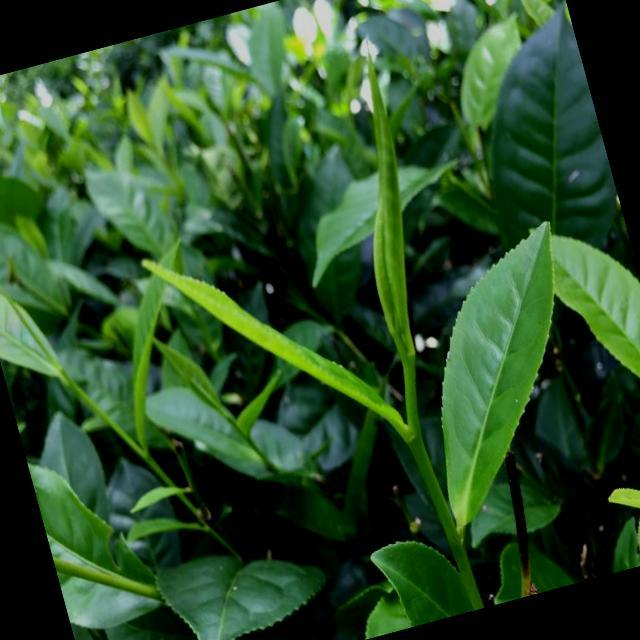Stem: (405, 428, 420, 442)
